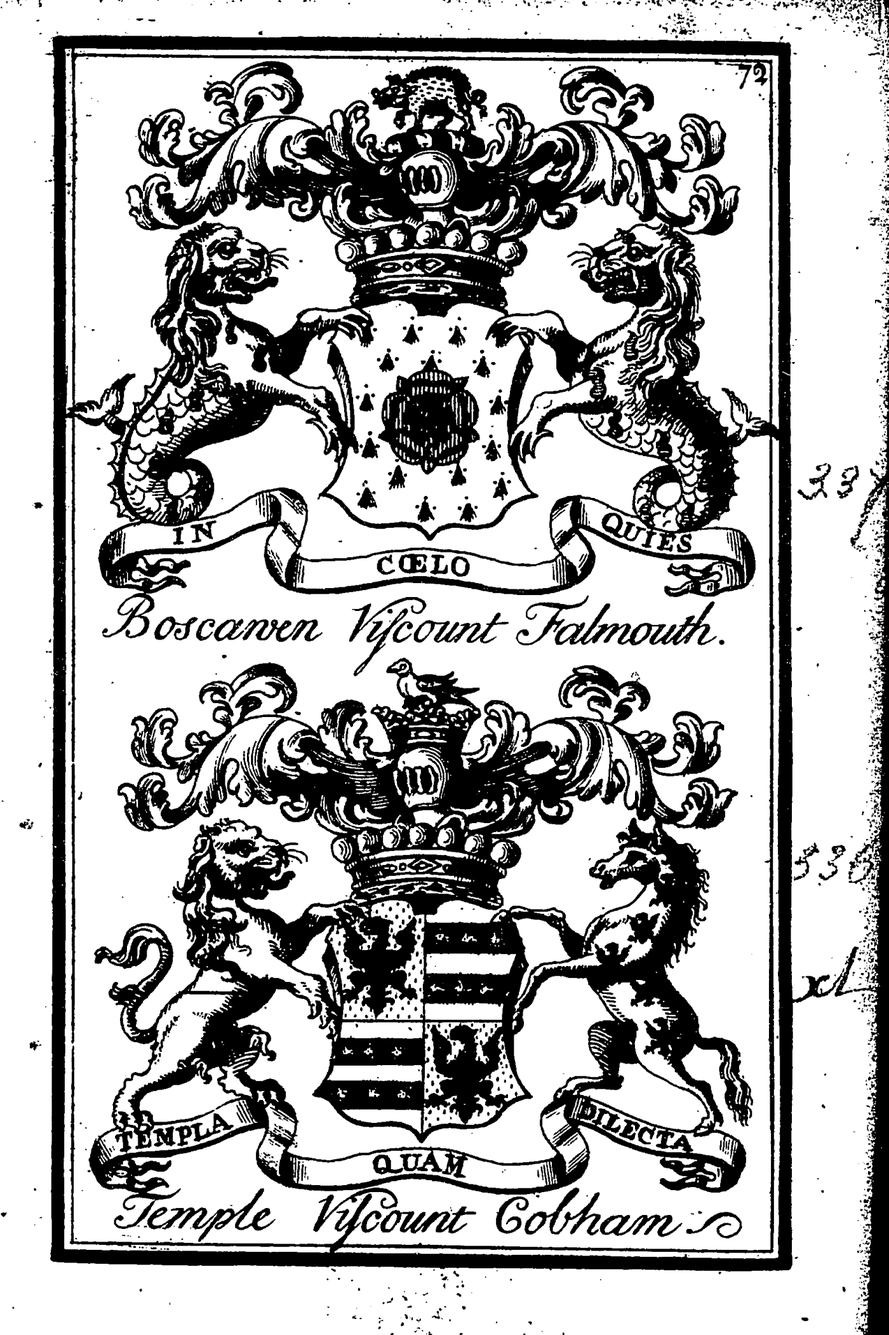coat_of_arms: (67, 57, 758, 658), (74, 662, 754, 1239)
